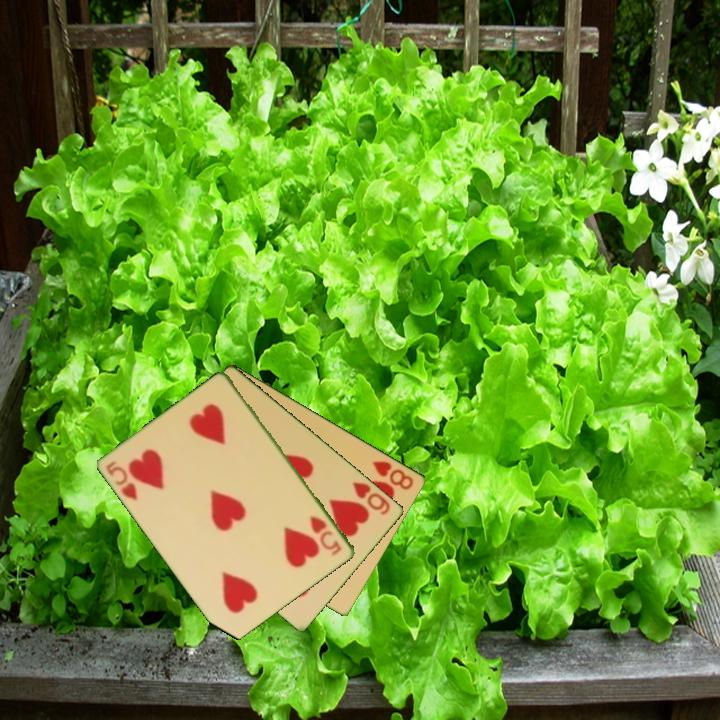5h: (307, 512, 345, 559), (103, 457, 140, 504)
6h: (349, 478, 393, 518)
8h: (369, 457, 417, 493)
